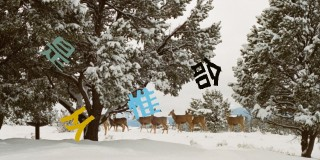从: (59, 106, 94, 143)
命: (192, 56, 221, 90)
唯: (127, 87, 161, 119)
是: (41, 35, 75, 68)
